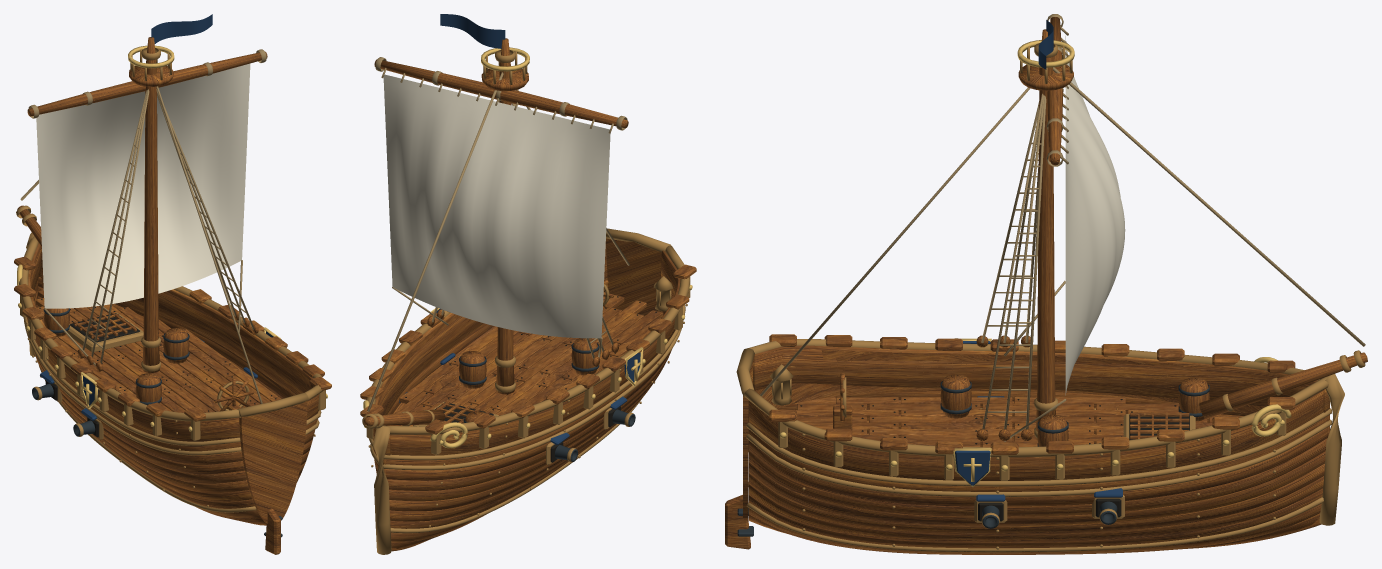
The model's file is knight-t1.glb.
3 views of the same model, side by side, from view 1: azimuth 30°, elevation 25°; view 2: azimuth 150°, elevation 25°; view 3: azimuth 270°, elevation 25° (orthographic). The views are drawn at different scales.
Visible parts, largest first — view 1: Fleet Carved oak.001, Sail_0, Fleet Aged brass.001, Fleet Braided hemp.001, Fleet Brass edge.001, Fleet Gunmetal.001, Pennant_0, Fleet Recess.001, Fleet Class enamel.001; view 2: Sail_0, Fleet Carved oak.001, Fleet Aged brass.001, Fleet Braided hemp.001, Fleet Brass edge.001, Pennant_0, Fleet Gunmetal.001, Fleet Class enamel.001, Fleet Recess.001; view 3: Fleet Carved oak.001, Fleet Aged brass.001, Sail_0, Fleet Braided hemp.001, Fleet Brass edge.001, Fleet Gunmetal.001, Fleet Class enamel.001, Fleet Recess.001.
Boxes of the visible parts, x1=… form: Fleet Carved oak.001: x1=14, y1=37, x2=331, y2=554; Sail_0: x1=36, y1=63, x2=250, y2=308; Fleet Aged brass.001: x1=16, y1=47, x2=325, y2=512; Fleet Braided hemp.001: x1=20, y1=49, x2=266, y2=403; Fleet Brass edge.001: x1=17, y1=45, x2=327, y2=431; Fleet Gunmetal.001: x1=32, y1=308, x2=282, y2=537; Pennant_0: x1=151, y1=14, x2=212, y2=43; Fleet Recess.001: x1=39, y1=298, x2=276, y2=437; Fleet Class enamel.001: x1=40, y1=331, x2=281, y2=420; Sail_0: x1=383, y1=74, x2=610, y2=338; Fleet Carved oak.001: x1=360, y1=38, x2=696, y2=551; Fleet Aged brass.001: x1=362, y1=49, x2=690, y2=554; Fleet Braided hemp.001: x1=367, y1=57, x2=629, y2=411; Fleet Brass edge.001: x1=363, y1=47, x2=692, y2=448; Pennant_0: x1=440, y1=14, x2=505, y2=48; Fleet Gunmetal.001: x1=459, y1=343, x2=635, y2=461; Fleet Class enamel.001: x1=399, y1=308, x2=640, y2=444; Fleet Recess.001: x1=405, y1=296, x2=656, y2=462; Fleet Carved oak.001: x1=725, y1=17, x2=1367, y2=554; Fleet Aged brass.001: x1=736, y1=43, x2=1365, y2=552; Sail_0: x1=1065, y1=36, x2=1125, y2=395; Fleet Braided hemp.001: x1=760, y1=14, x2=1365, y2=441; Fleet Brass edge.001: x1=779, y1=40, x2=1291, y2=487; Fleet Gunmetal.001: x1=737, y1=381, x2=1209, y2=536; Fleet Class enamel.001: x1=955, y1=341, x2=1122, y2=501; Fleet Recess.001: x1=800, y1=399, x2=1213, y2=521.
Size of the model in its own units: 2.42 by 4.23 by 4.64.
Materials: 9 (1 with a texture image).
